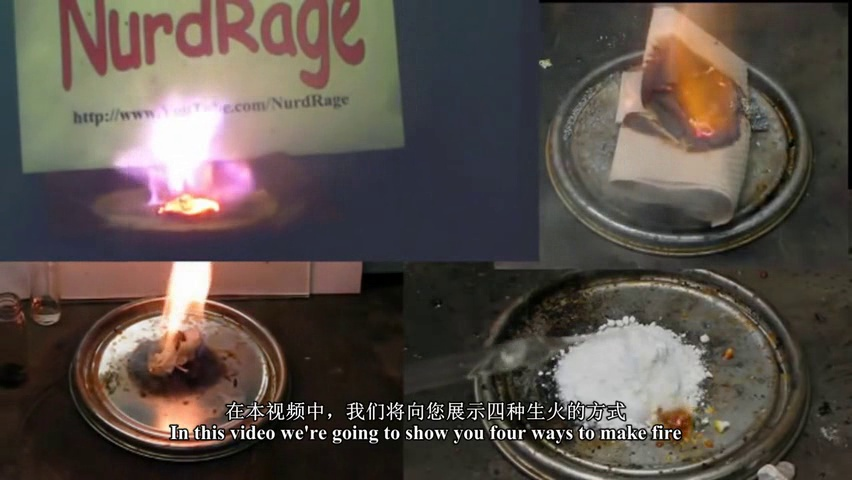fire: (113, 83, 252, 223), (625, 1, 751, 147), (148, 255, 218, 375)
